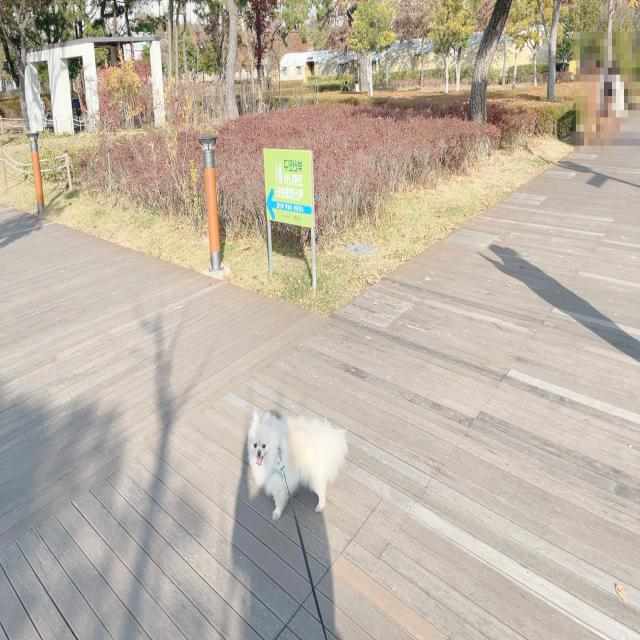Dog: (246, 409, 348, 524)
